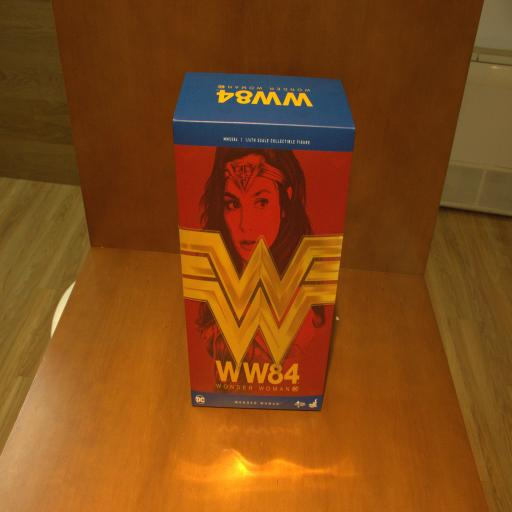WonderWoman: (172, 72, 356, 416)
